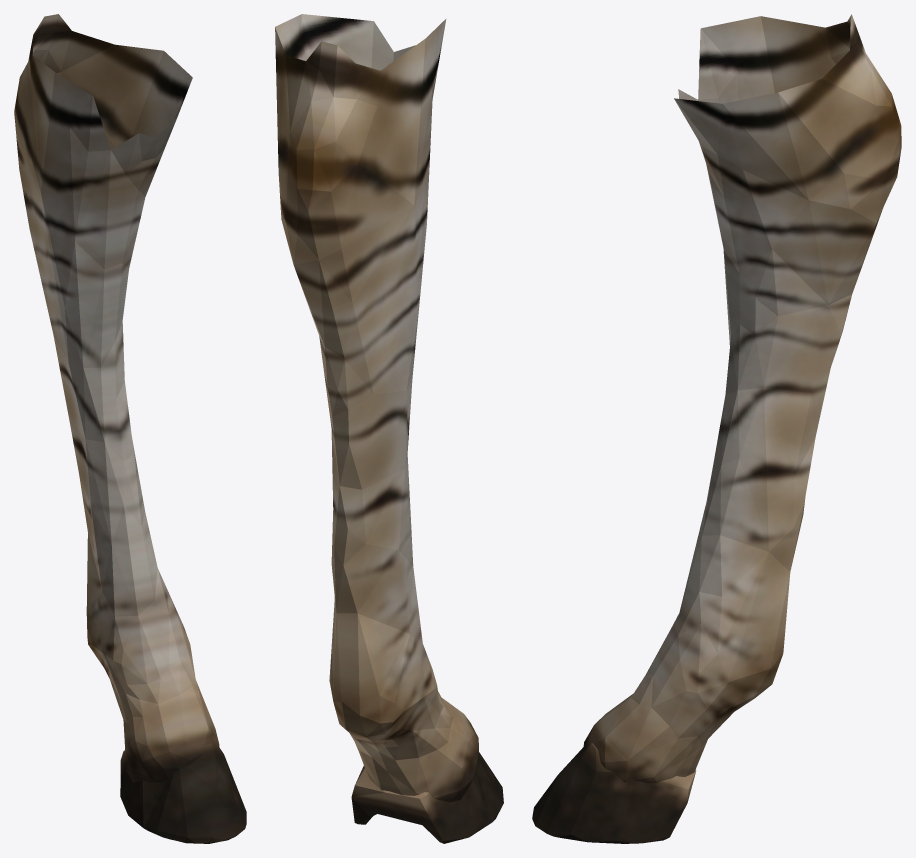
The model's file is Zpzti.obj.
3 views of the same model, side by side, from view 1: azimuth 30°, elevation 25°; view 2: azimuth 150°, elevation 25°; view 3: azimuth 270°, elevation 25° (orthographic). The views are drawn at different scales.
Visible parts, largest first — view 1: PzTI; view 2: PzTI; view 3: PzTI.
Boxes of the visible parts, left/top/right/bottom form: PzTI: left=14, top=14, right=246, bottom=843; PzTI: left=275, top=14, right=503, bottom=843; PzTI: left=532, top=14, right=901, bottom=843.
Size of the model in its own units: 0.1247 by 0.7068 by 0.2996.
1 material, 1 textured.
